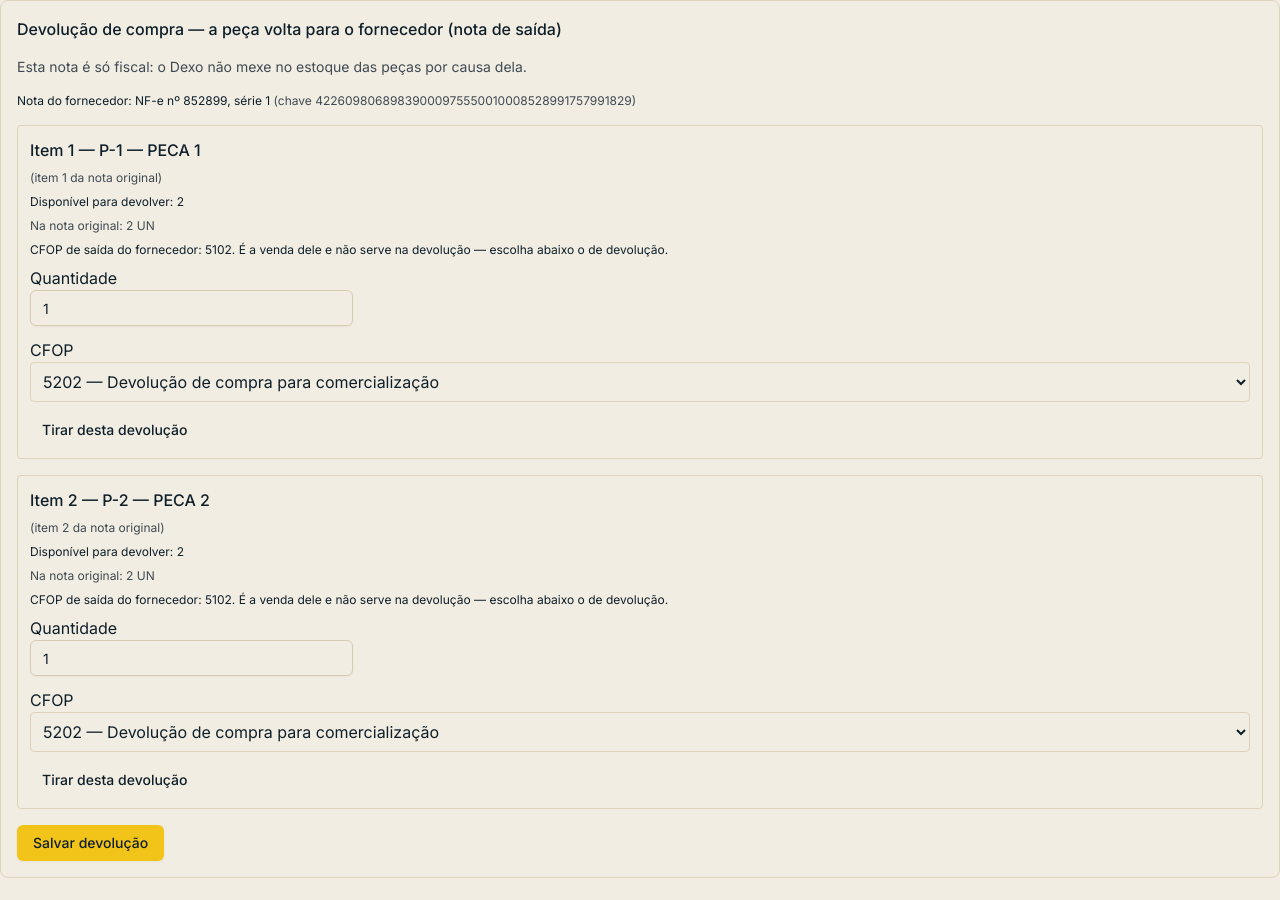
Test: a recusa do salvar vai para o cartão da PEÇA (chave + nº do item), não da ordem › 409 SALDO_INSUFICIENTE com nItem/chave: a frase aparece na peça 2, mesmo com a ordem apontando a 1
This screenshot has width=1280, height=900.
Click the button "Salvar devolução" at (91, 843), box [17, 825, 164, 861]
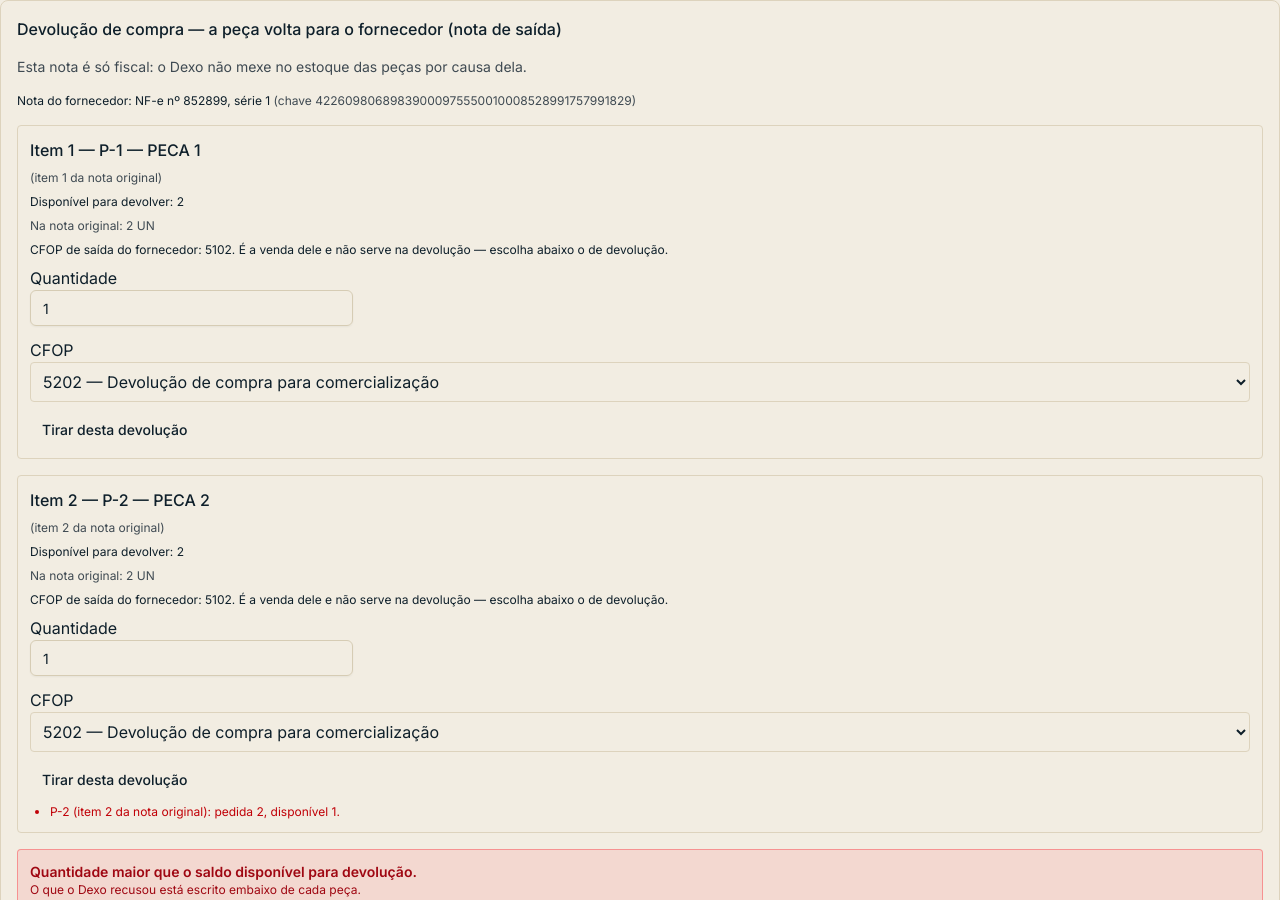
Check: the list named "Recusado pelo Dexo" shows "pedida 2, disponível 1", box [50, 804, 340, 819]
